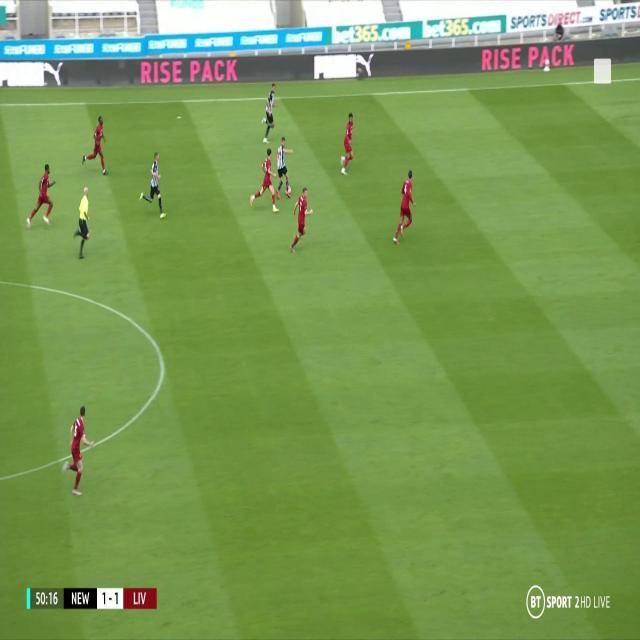player: (63, 403, 93, 499), (27, 161, 56, 232), (250, 143, 278, 214), (393, 170, 417, 246), (141, 150, 166, 217), (82, 115, 109, 177), (289, 186, 311, 256), (73, 184, 91, 265), (274, 133, 293, 201), (260, 81, 278, 144), (340, 110, 356, 179)
